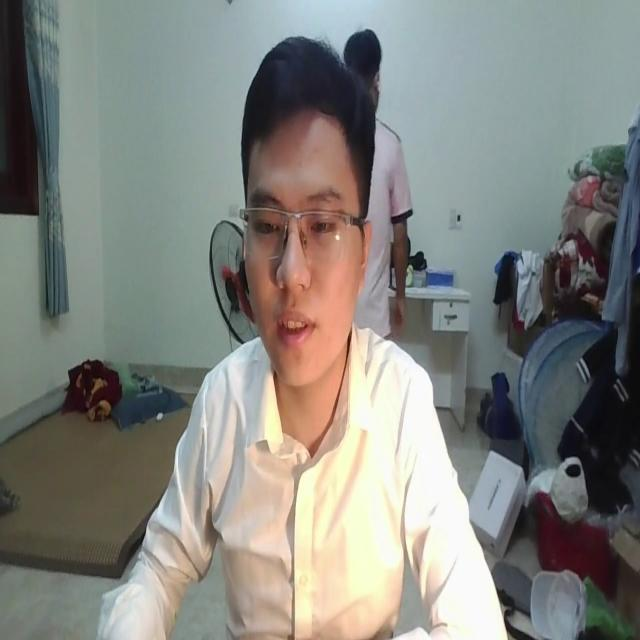extra_person: (349, 21, 415, 343)
student: (110, 28, 502, 640)
